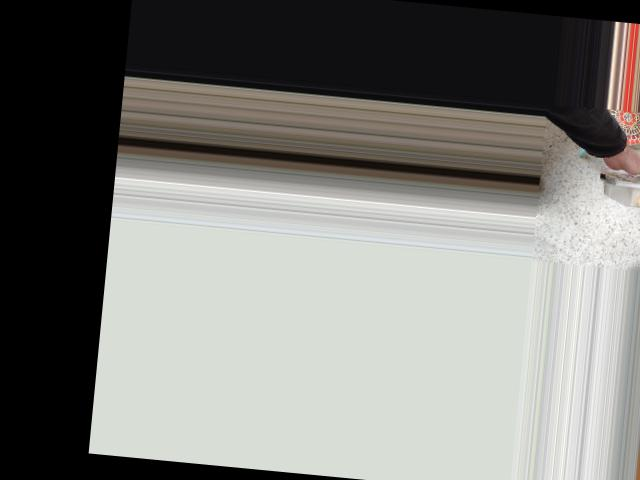cheese: (591, 117, 640, 219)
